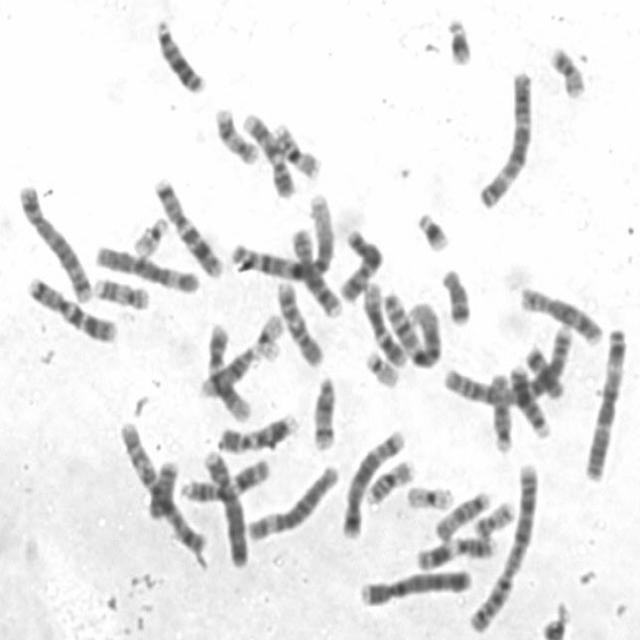A1: (230, 190, 336, 285), (380, 289, 442, 371)
A2: (463, 459, 540, 634), (440, 323, 574, 408)
A3: (474, 64, 535, 210), (581, 324, 629, 482)
B4: (201, 447, 251, 569), (356, 564, 474, 610)
B5: (15, 179, 94, 305), (338, 426, 406, 540)
C10: (116, 417, 171, 520), (273, 275, 327, 369)
C11: (176, 455, 272, 504), (413, 531, 499, 573)
C12: (203, 322, 252, 424), (359, 277, 407, 368)
C6: (245, 461, 340, 543), (90, 239, 202, 296)
C7: (150, 172, 226, 279), (23, 271, 119, 344)
C8: (516, 284, 603, 347), (287, 223, 343, 318)
C9: (239, 107, 298, 202), (214, 409, 299, 454)
D13: (151, 14, 207, 96), (505, 360, 552, 440)
D14: (197, 342, 257, 398), (310, 372, 338, 452)
D15: (430, 487, 491, 543), (486, 369, 515, 454)
E16: (270, 119, 322, 182), (363, 455, 416, 508)
E17: (211, 103, 260, 166), (90, 272, 152, 311)
E18: (522, 342, 566, 401), (438, 262, 474, 326)
F19: (252, 310, 286, 364), (403, 481, 455, 511)
F20: (546, 42, 588, 99), (473, 498, 517, 538)
G21: (412, 206, 451, 255), (443, 12, 475, 68)
G22: (130, 213, 171, 260), (362, 348, 401, 390)
X: (158, 456, 209, 555), (335, 225, 387, 304)
